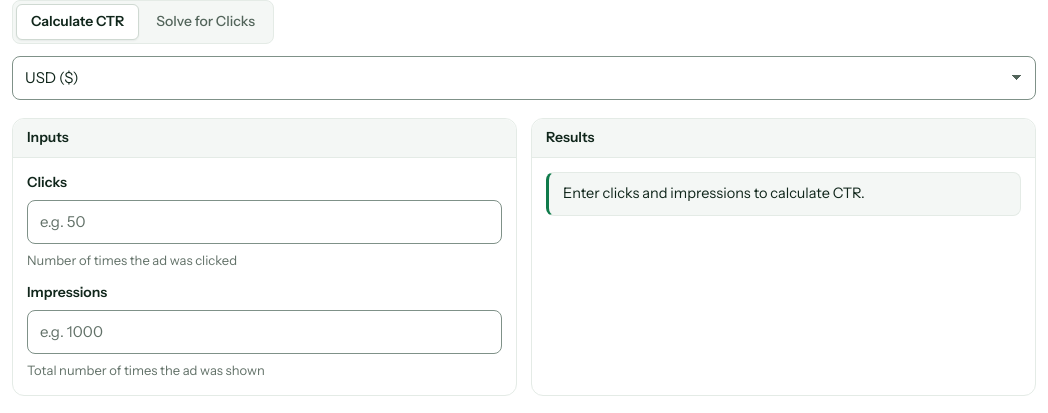
CtrCalculator › solve mode: calculates clicks needed for 5% CTR over 10000 impressions
Click the tab "Solve for Clicks" at x=206, y=22, box [141,4,270,40]
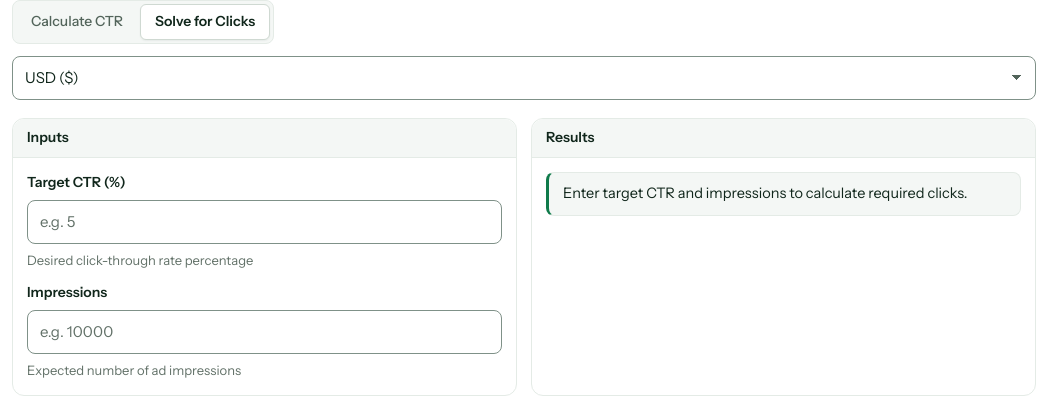
Type "5" into the number field with placeholder "e.g. 5" at x=264, y=222, box [27,200,502,244]
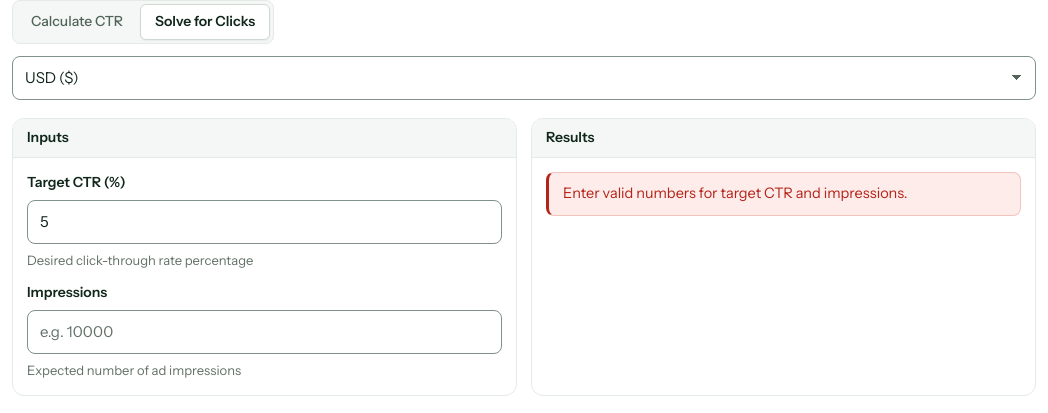
Type "10000" into the number field with placeholder "e.g. 10000" at x=264, y=332, box [27,310,502,354]
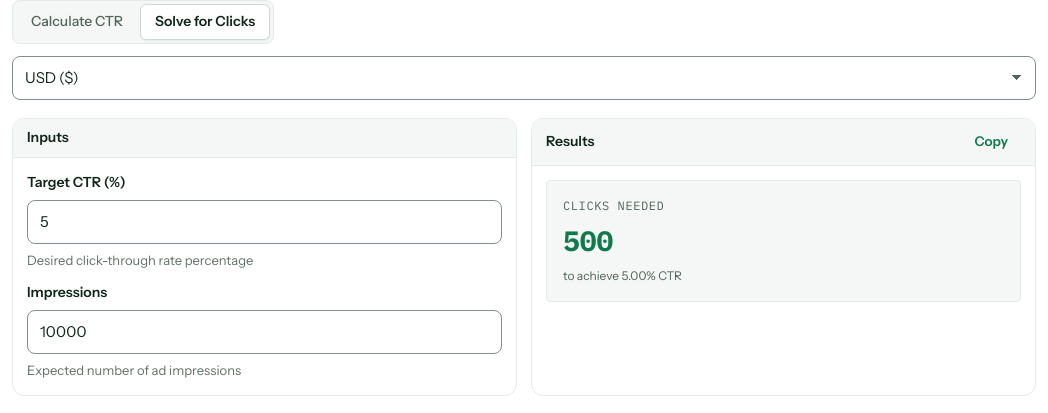
Expected: the text "500" is shown, [563,222,613,259]
